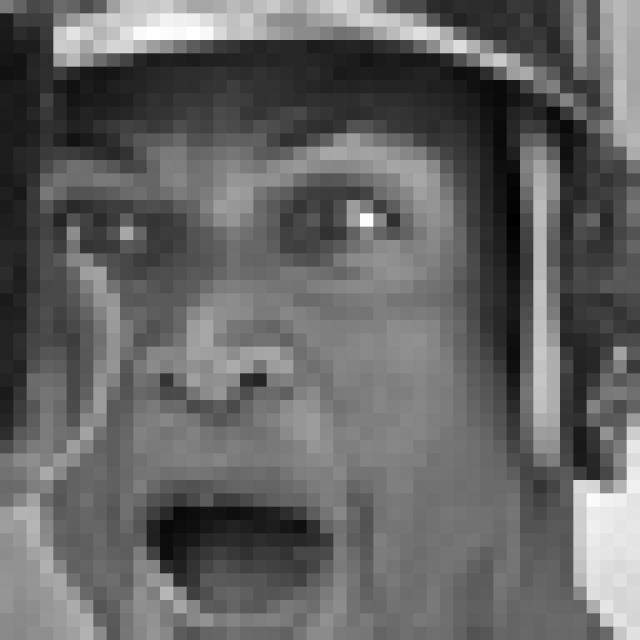angry: (43, 107, 444, 634)
